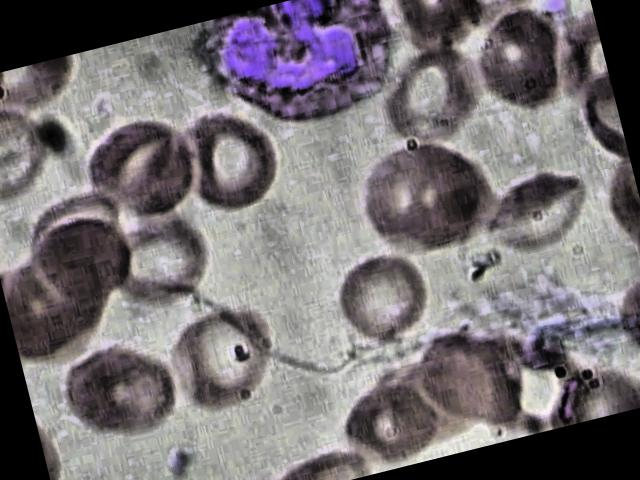Platelets: (160, 441, 206, 480), (538, 0, 580, 31)
RBC: (350, 125, 509, 269), (153, 290, 290, 426), (54, 326, 190, 452), (453, 0, 583, 124), (469, 146, 600, 265), (74, 108, 200, 228), (160, 101, 286, 220), (369, 35, 495, 154), (98, 198, 224, 316), (317, 241, 439, 358), (330, 364, 448, 474), (0, 94, 65, 210)
WBC: (177, 0, 415, 147)
